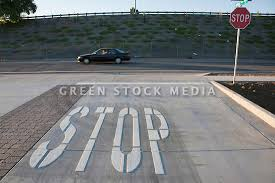stop_sign: (229, 6, 251, 29)
